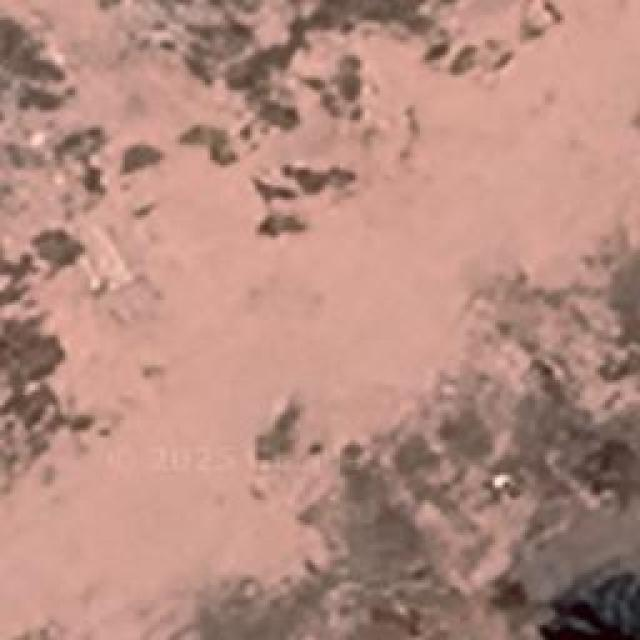PalmTree: (544, 578, 638, 638)
